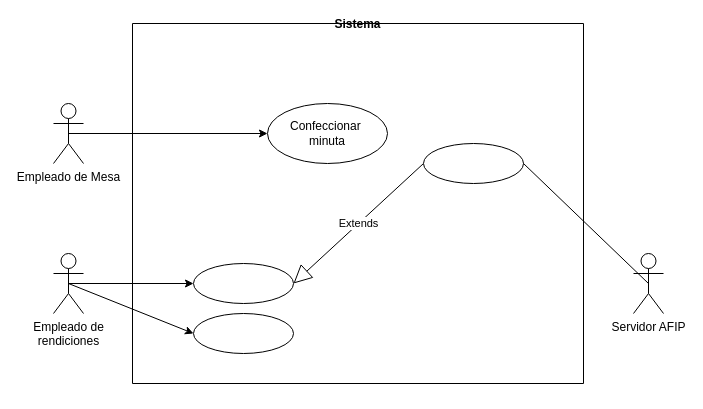
The diagram is 703 pixels wide and 409 high, and some of its shapes have lost their labels. The shapes that lost their labels are listed below. From the top down, each one's centre as x and y in pixels, then its label:
At point 473,163: "Verificar CUIT".
At point 243,283: "Aprobar minuta".
At point 243,333: "Imprimir listado".
